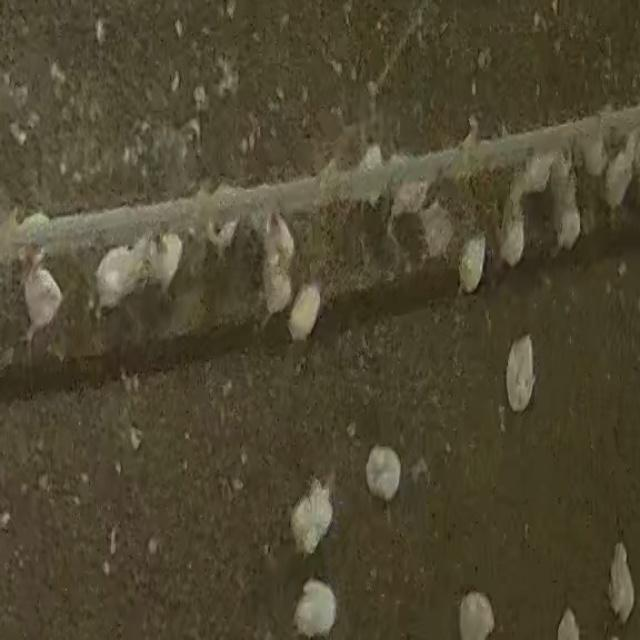chicken: (89, 230, 149, 314), (17, 243, 57, 350), (291, 476, 337, 557), (252, 238, 290, 325), (135, 229, 181, 295), (203, 181, 240, 263), (290, 579, 337, 639), (551, 166, 585, 248), (601, 137, 640, 208), (413, 197, 455, 262), (504, 332, 537, 414), (494, 185, 527, 267), (284, 271, 321, 343), (605, 541, 637, 624), (516, 144, 566, 195), (364, 443, 402, 510), (456, 219, 486, 293)
